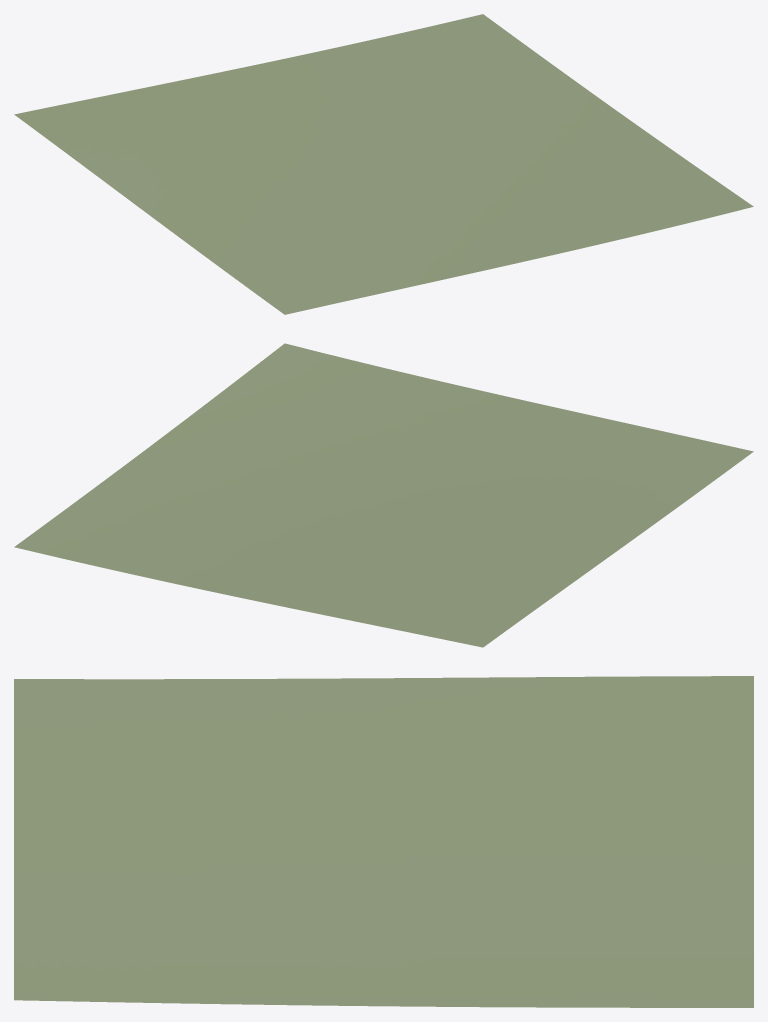
The model's file is expanse-1-27.glb.
The picture shows the model from 3 angles, top to bottom: view 1: azimuth 30°, elevation 25°; view 2: azimuth 150°, elevation 25°; view 3: azimuth 270°, elevation 25°; orthographic projection. The views are drawn at different scales.
Visible parts, largest first — view 1: expanse-1-27; view 2: expanse-1-27; view 3: expanse-1-27.
Boxes of the visible parts, <box> form: expanse-1-27: <box>14,14,753,314</box>; expanse-1-27: <box>14,343,753,647</box>; expanse-1-27: <box>14,676,753,1007</box>.
Size of the model in its own units: 256 by 7.32 by 256.
